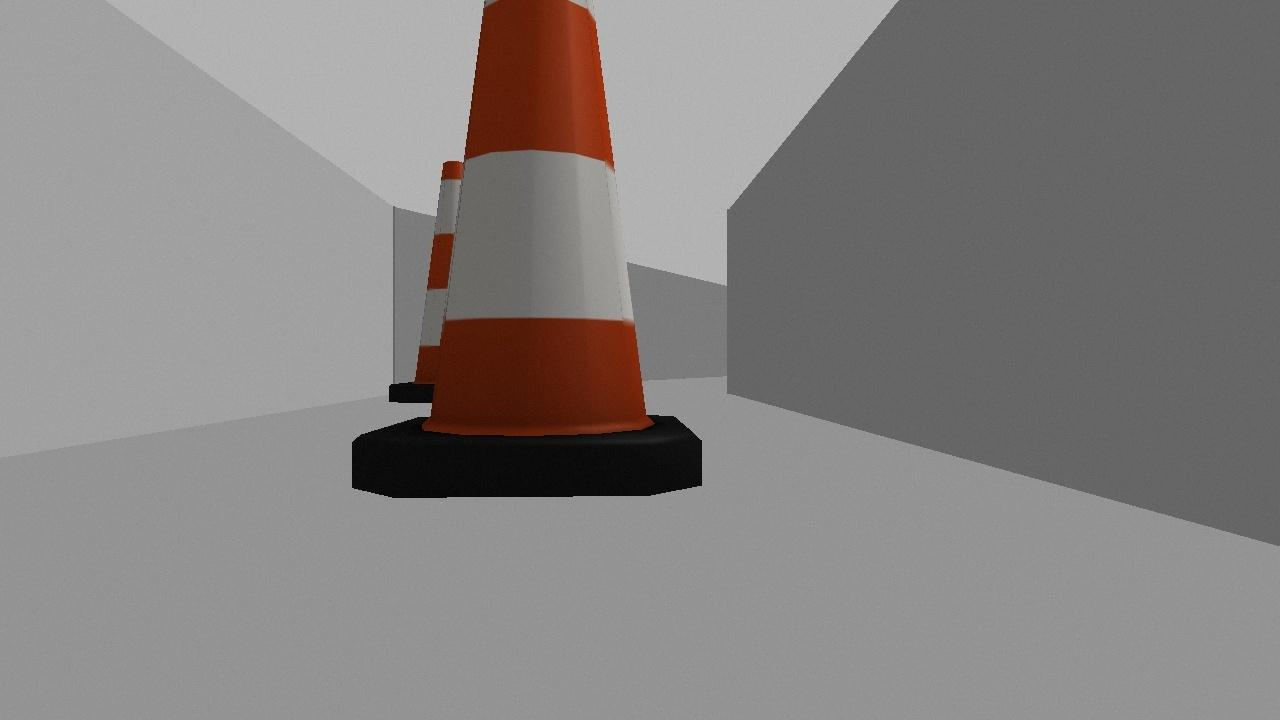cone_barrel: (347, 0, 704, 499), (386, 159, 508, 403)
